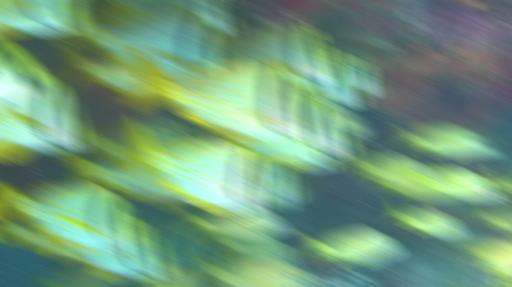Fish: (124, 49, 309, 140), (119, 122, 268, 209), (54, 8, 227, 71), (0, 186, 140, 248), (60, 147, 195, 207), (236, 98, 353, 165), (222, 24, 339, 85), (46, 222, 171, 278), (0, 77, 86, 158), (62, 43, 146, 92), (109, 0, 237, 31), (295, 53, 364, 108), (196, 256, 315, 286), (61, 50, 146, 92), (341, 149, 432, 188), (180, 204, 285, 237), (301, 228, 398, 263), (396, 124, 495, 157), (0, 43, 49, 108), (207, 233, 298, 266), (148, 219, 209, 268), (0, 0, 86, 33), (408, 170, 495, 199), (388, 203, 461, 236), (0, 218, 65, 253), (257, 156, 302, 201), (334, 50, 381, 93), (79, 124, 133, 159), (55, 265, 122, 286), (475, 239, 511, 274), (329, 107, 368, 134), (156, 265, 205, 286), (386, 186, 452, 201), (473, 207, 511, 226), (288, 156, 335, 169), (491, 170, 511, 193), (457, 279, 461, 286), (508, 282, 511, 286)
